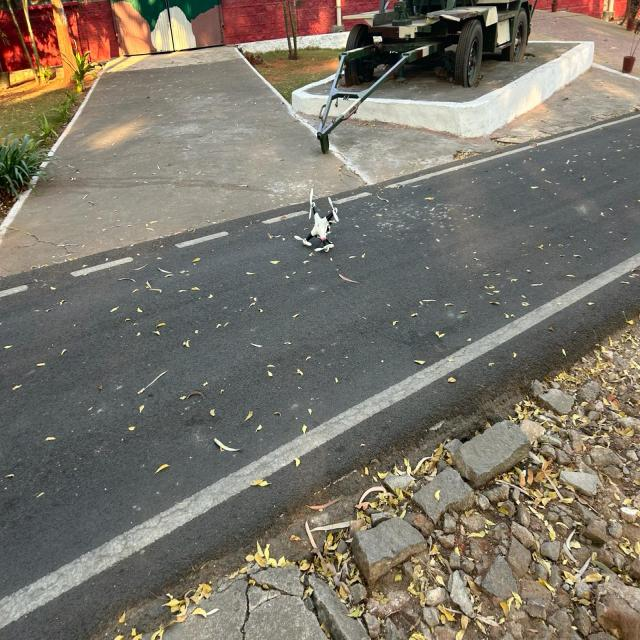drone: (266, 174, 372, 275)
